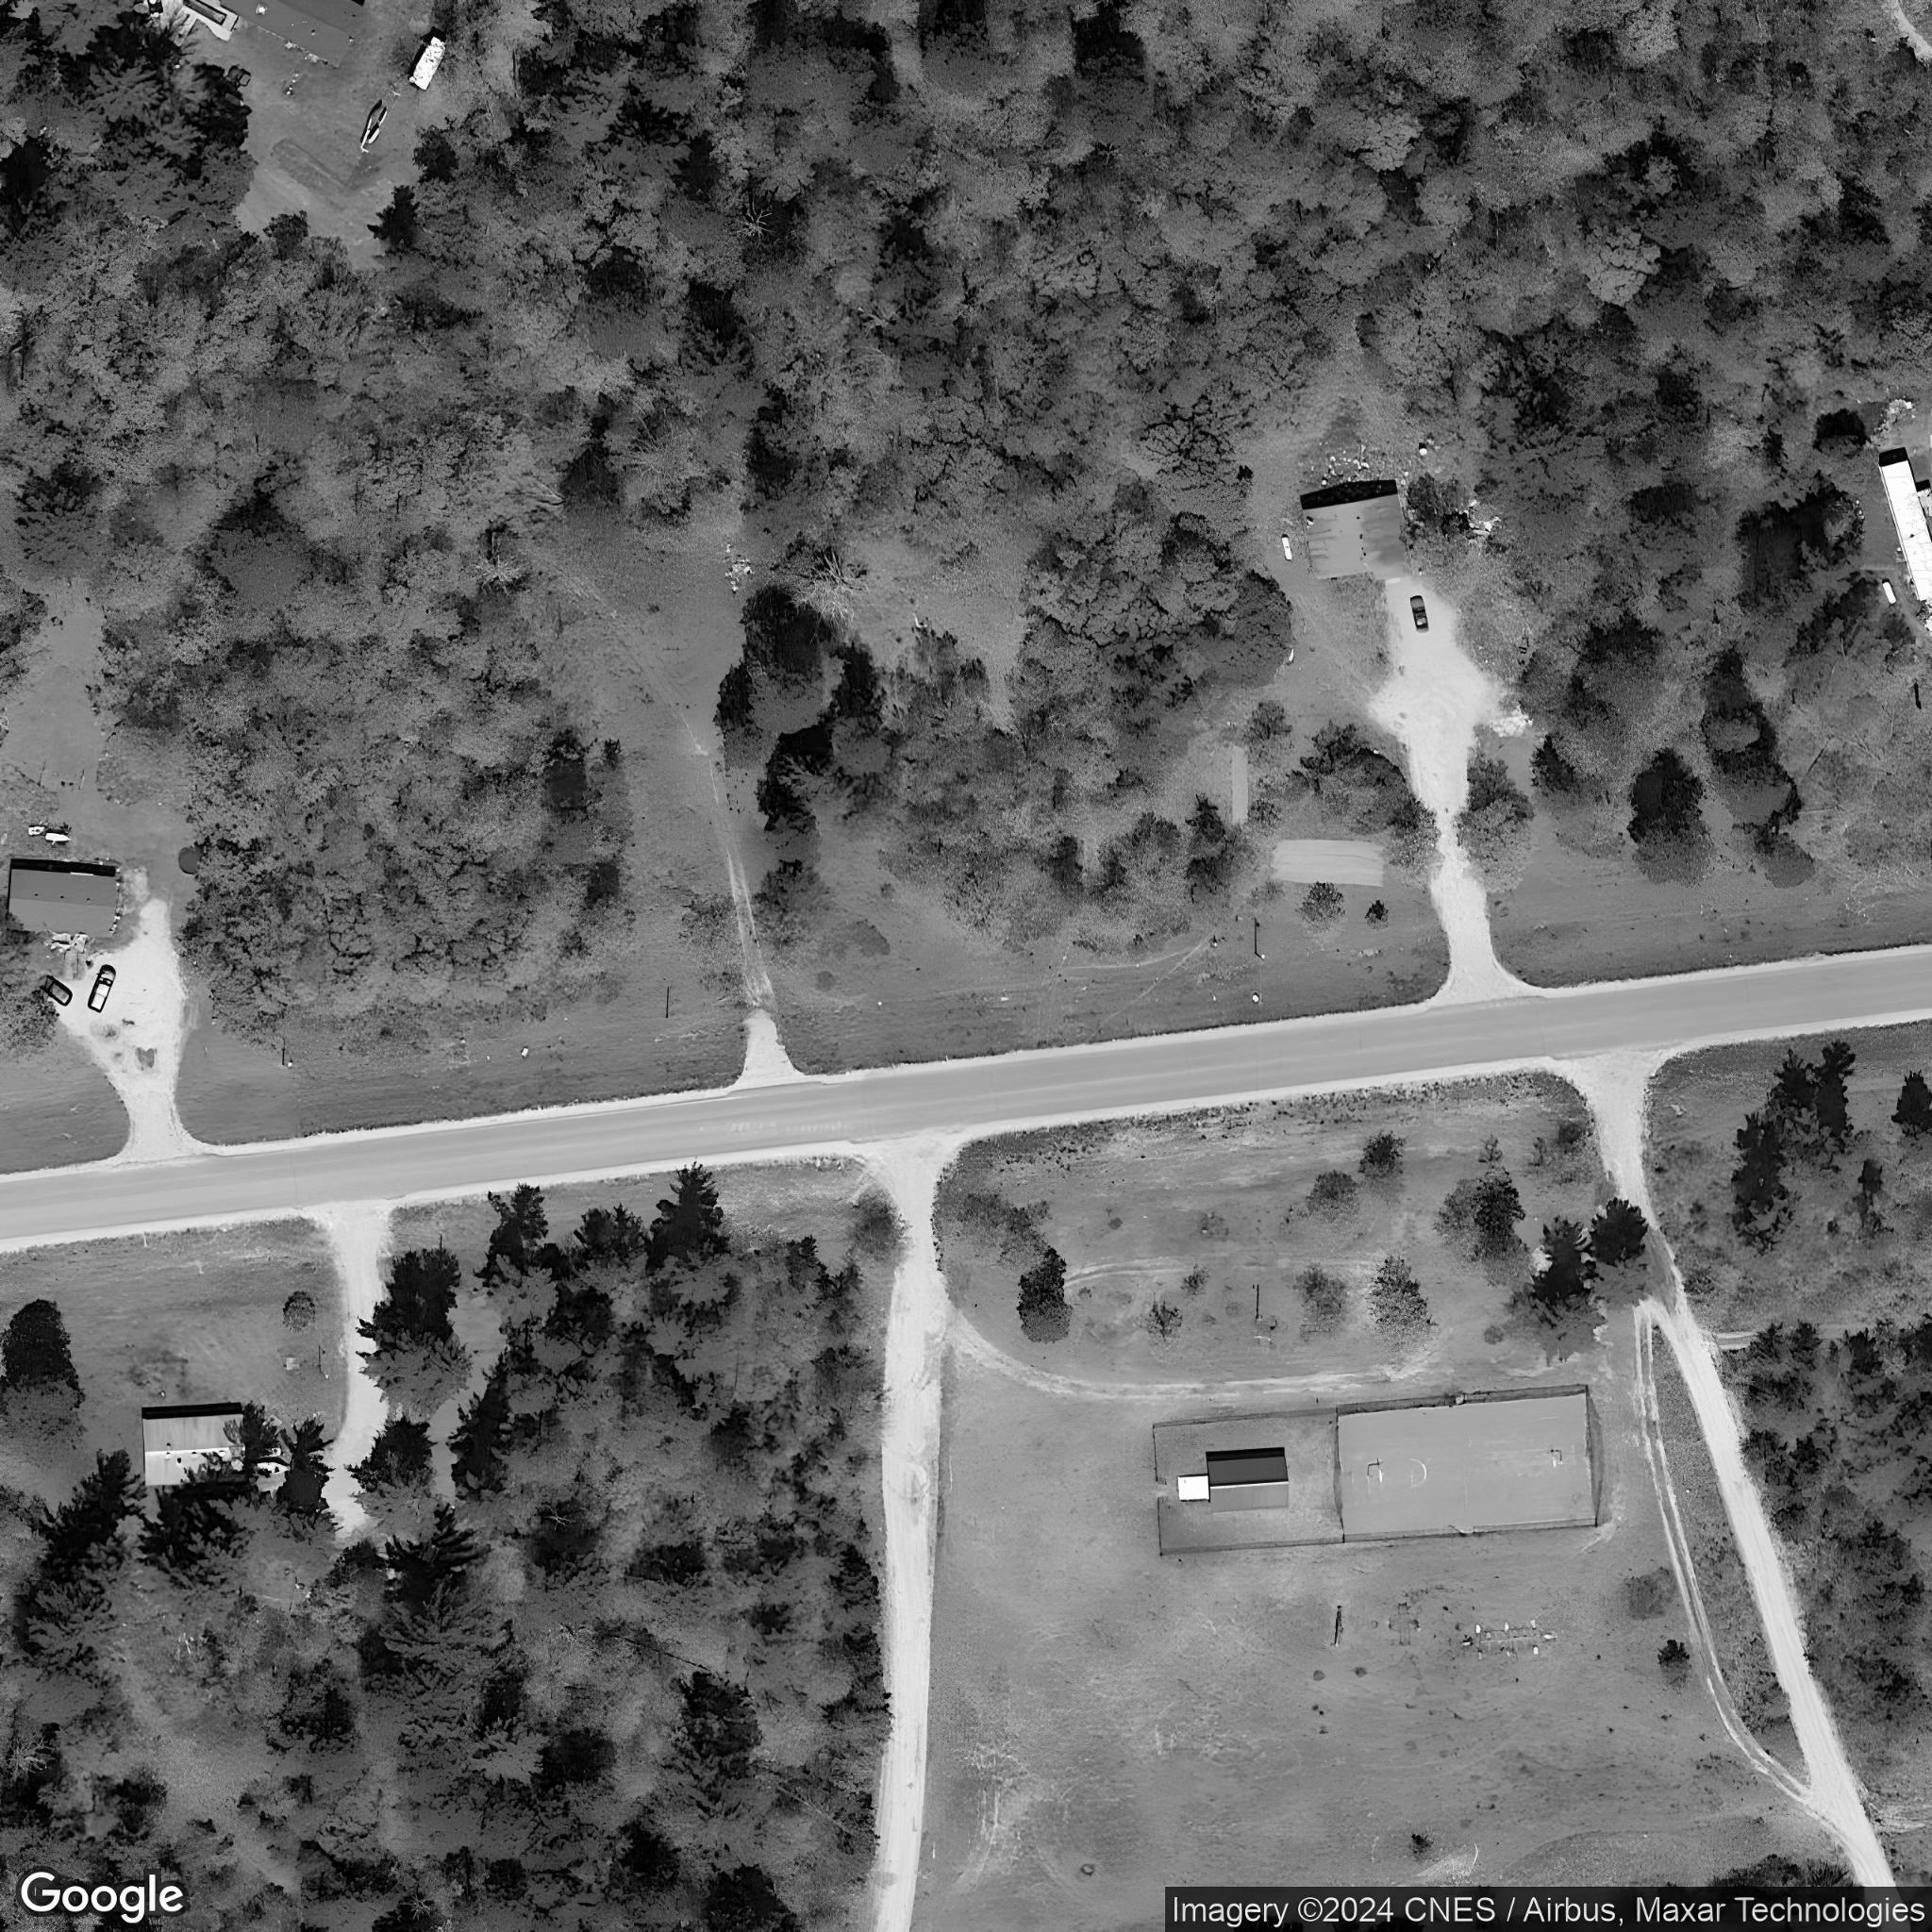Garage: (1208, 1453, 1290, 1511)
House: (1300, 492, 1410, 582), (218, 0, 364, 67), (140, 1412, 246, 1490), (1875, 458, 1932, 602), (5, 867, 119, 938)
Propane: (1879, 577, 1898, 607), (1277, 533, 1295, 564)
Trailer: (407, 34, 451, 94)
